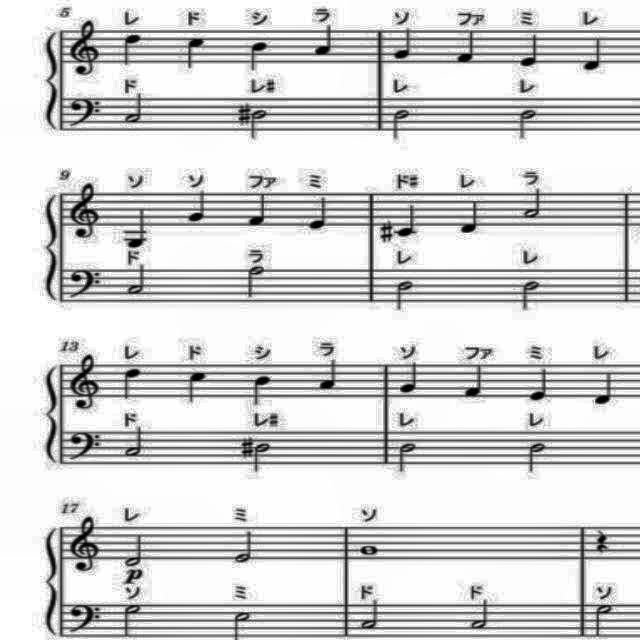Bass-clef: (66, 264, 106, 304), (66, 93, 104, 135), (66, 426, 104, 466), (66, 598, 104, 634)
Diez: (378, 212, 396, 248), (237, 433, 256, 462), (236, 100, 252, 128)
Full-note: (356, 542, 382, 560)
Half-note: (519, 438, 551, 478), (242, 264, 272, 304), (120, 91, 148, 133), (389, 278, 418, 316), (388, 106, 416, 144), (230, 529, 258, 567), (123, 530, 149, 570), (518, 277, 544, 315), (123, 423, 149, 461), (522, 185, 548, 223), (252, 436, 276, 476), (122, 598, 146, 638), (123, 263, 149, 299), (591, 602, 617, 638), (396, 439, 419, 479), (516, 106, 540, 144), (468, 597, 492, 635), (248, 105, 270, 144), (358, 598, 382, 632)
Quarter-note: (449, 23, 487, 68), (121, 204, 153, 248), (526, 362, 558, 406), (396, 362, 426, 406), (576, 34, 608, 74), (306, 192, 334, 236), (314, 356, 346, 394), (386, 26, 416, 64), (186, 186, 214, 226), (182, 366, 210, 406), (248, 370, 276, 410), (590, 368, 618, 408), (312, 23, 341, 61), (459, 362, 488, 400), (116, 31, 144, 69), (242, 190, 270, 228), (392, 200, 420, 238), (456, 197, 484, 235), (518, 32, 544, 72), (182, 32, 206, 74), (118, 366, 146, 402), (245, 36, 269, 72)
Quarter-rest: (591, 528, 617, 562)
Treble-clef: (65, 350, 107, 420), (64, 179, 104, 247), (67, 510, 106, 578), (67, 16, 106, 82)
